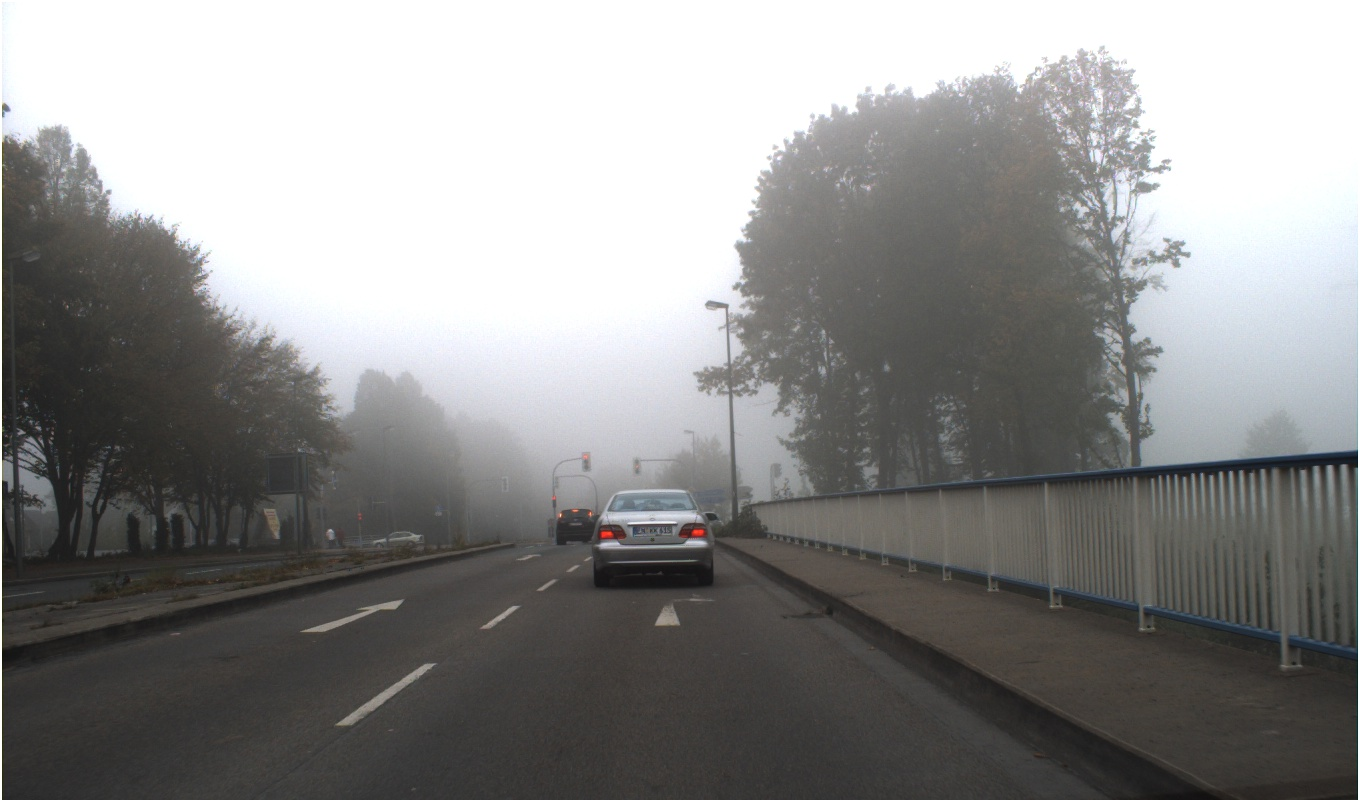car: (594, 488, 731, 605), (562, 495, 603, 561), (363, 528, 432, 554), (706, 502, 726, 544)
pedestrian: (322, 518, 338, 553), (334, 523, 350, 552)
red: (577, 441, 597, 483)
